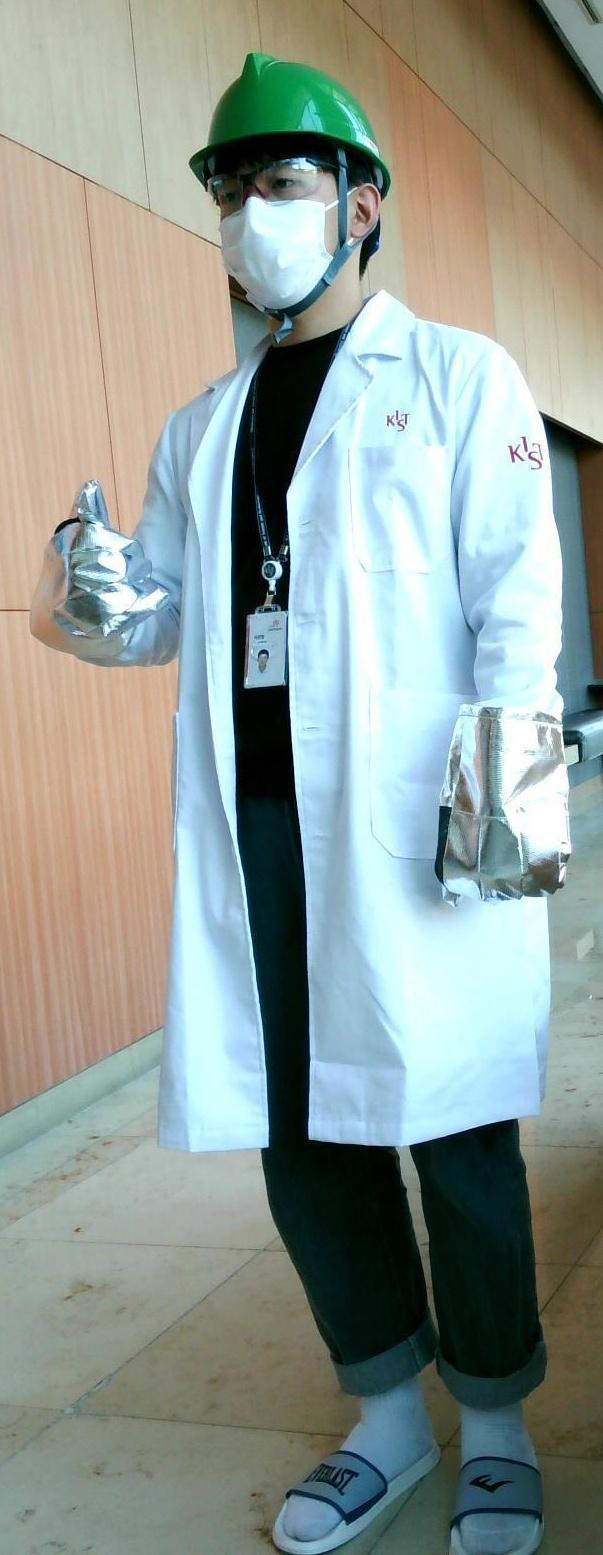lab_coat: (154, 348, 467, 1135)
